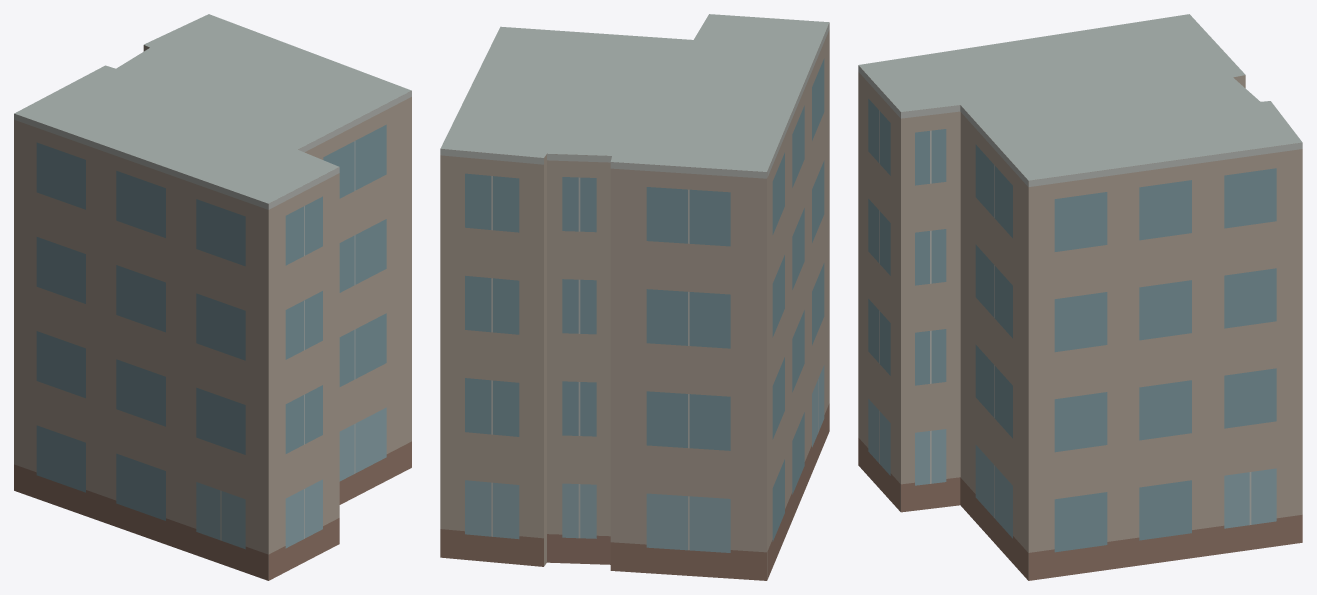
The model's file is survey-upis-32842363.glb.
3 renders of one model, left to right at view 1: azimuth 30°, elevation 25°; view 2: azimuth 150°, elevation 25°; view 3: azimuth 270°, elevation 25°, orthographic. The views are drawn at different scales.
Visible parts, largest first — view 1: survey-upis-32842363.tmp; view 2: survey-upis-32842363.tmp; view 3: survey-upis-32842363.tmp.
Part boxes in pixels (<box>): survey-upis-32842363.tmp: <box>14,14,411,580</box>; survey-upis-32842363.tmp: <box>440,14,829,580</box>; survey-upis-32842363.tmp: <box>858,14,1302,580</box>.
Bounding box in the file's own units: 13.36 × 14.95 × 15.05.
